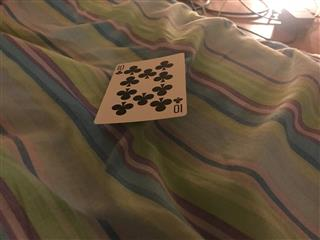TenOfClubs: (92, 51, 189, 124)
